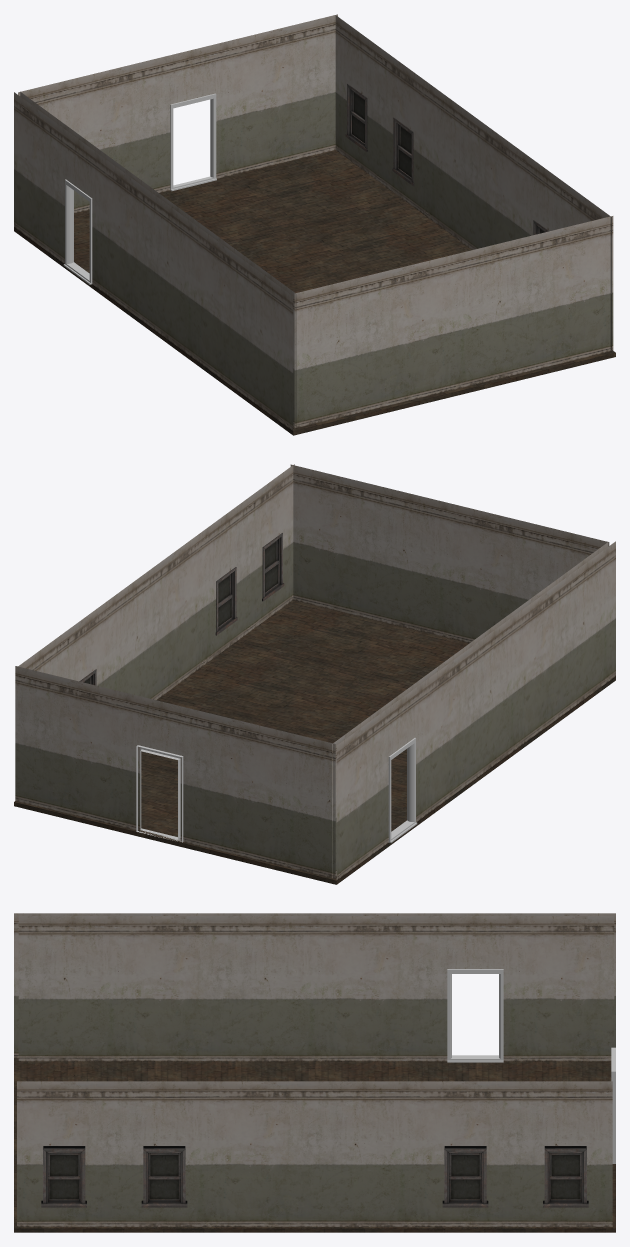
File: room_windows_15m_x_10m_door_left.fbx
The picture shows the model from 3 angles, top to bottom: view 1: azimuth 30°, elevation 25°; view 2: azimuth 150°, elevation 25°; view 3: azimuth 270°, elevation 25°; orthographic projection. The views are drawn at different scales.
Parts seen in each view (by area): view 1: room_windows_15m_x_10m_door_left; view 2: room_windows_15m_x_10m_door_left; view 3: room_windows_15m_x_10m_door_left.
Part boxes in pixels (x1,y1,x2,y2): room_windows_15m_x_10m_door_left: (14,14,615,435); room_windows_15m_x_10m_door_left: (14,464,615,884); room_windows_15m_x_10m_door_left: (14,913,615,1232).
Size of the model in its own units: 1023 by 412 by 1500.
